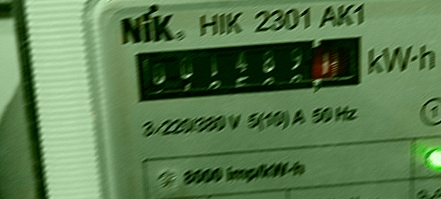0: (177, 53, 195, 79), (150, 59, 167, 85)
1: (205, 49, 222, 79), (317, 45, 332, 76)
4: (232, 47, 251, 75)
8: (258, 45, 278, 73)
9: (287, 45, 305, 71)
screen: (119, 20, 381, 119)
